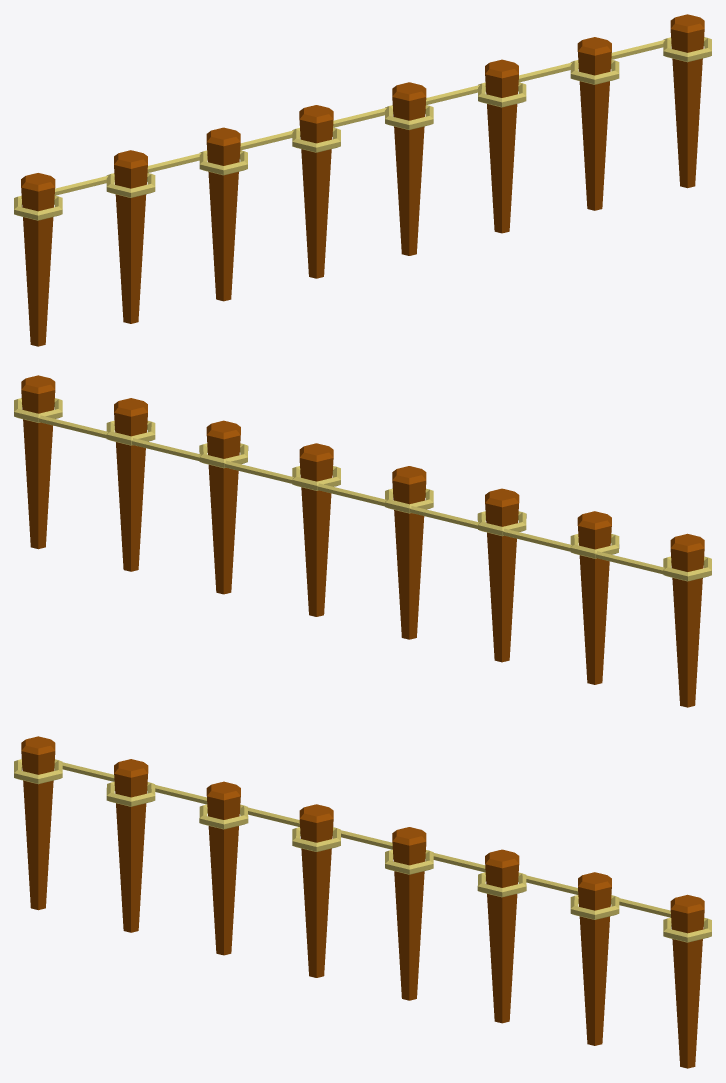
File: GEO_dock_railing_1.fbx
The picture shows the model from 3 angles, top to bottom: view 1: azimuth 30°, elevation 25°; view 2: azimuth 150°, elevation 25°; view 3: azimuth 330°, elevation 25°; orthographic projection.
Parts seen in each view (by area): view 1: railing_1; view 2: railing_1; view 3: railing_1.
Part boxes in pixels (<box>): railing_1: <box>14,14,711,346</box>; railing_1: <box>14,375,711,707</box>; railing_1: <box>14,736,711,1068</box>.
Size of the model in its own units: 462 by 104 by 27.58.
